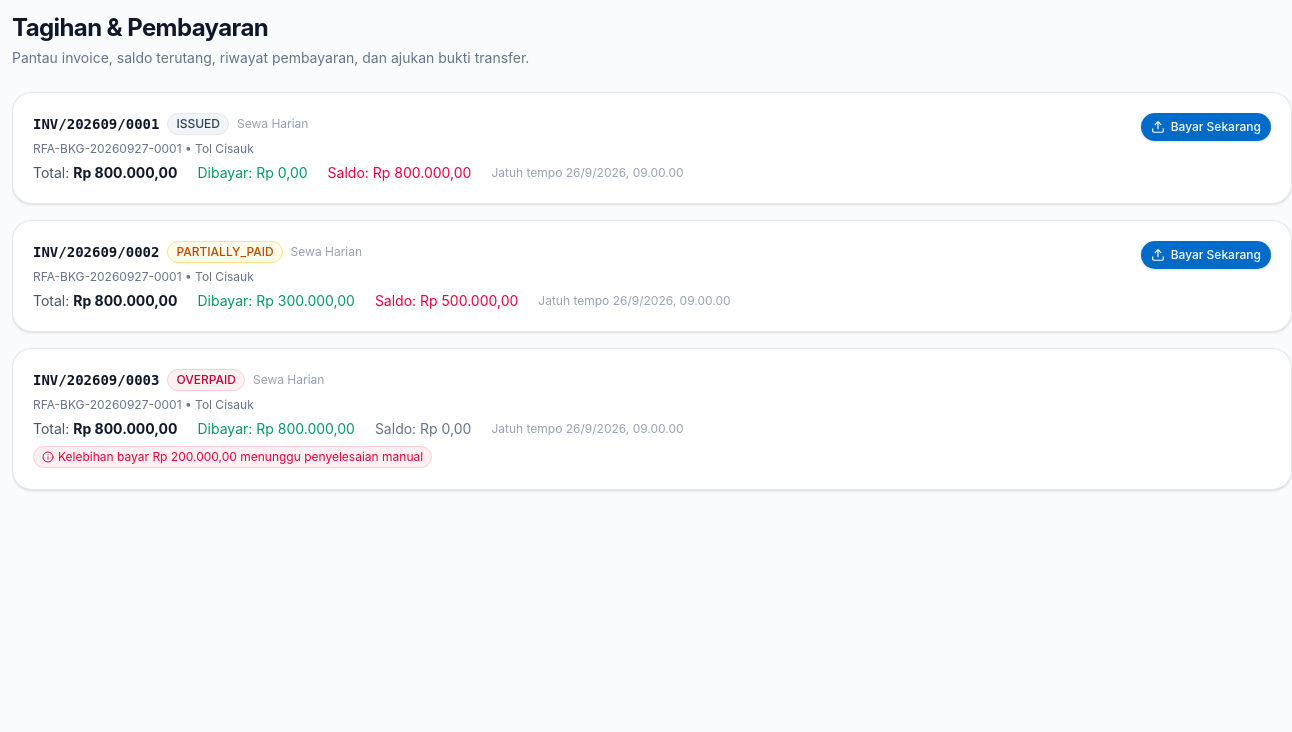
User Invoice UI › shows payment history with rejected reason on expand
The width and height of the screenshot is (1292, 732).
Click the text "INV/202609/0002".
click(96, 252)  # box [33,242,159,262]
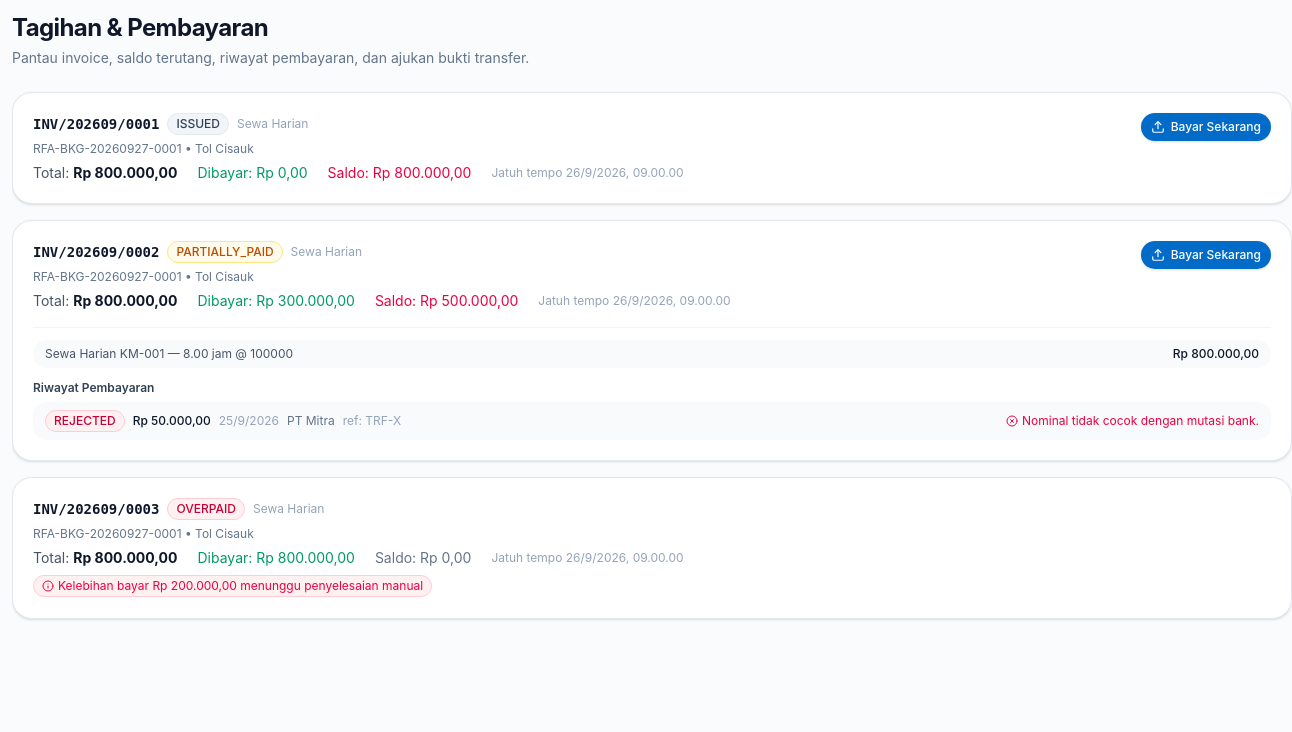
Result: the text "Nominal tidak cocok dengan mutasi bank." is shown at [1006,413,1259,429]
Result: the text "REJECTED" is shown at [45,410,125,432]
